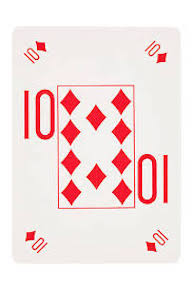TenOfDiamonds: (13, 23, 181, 262)
